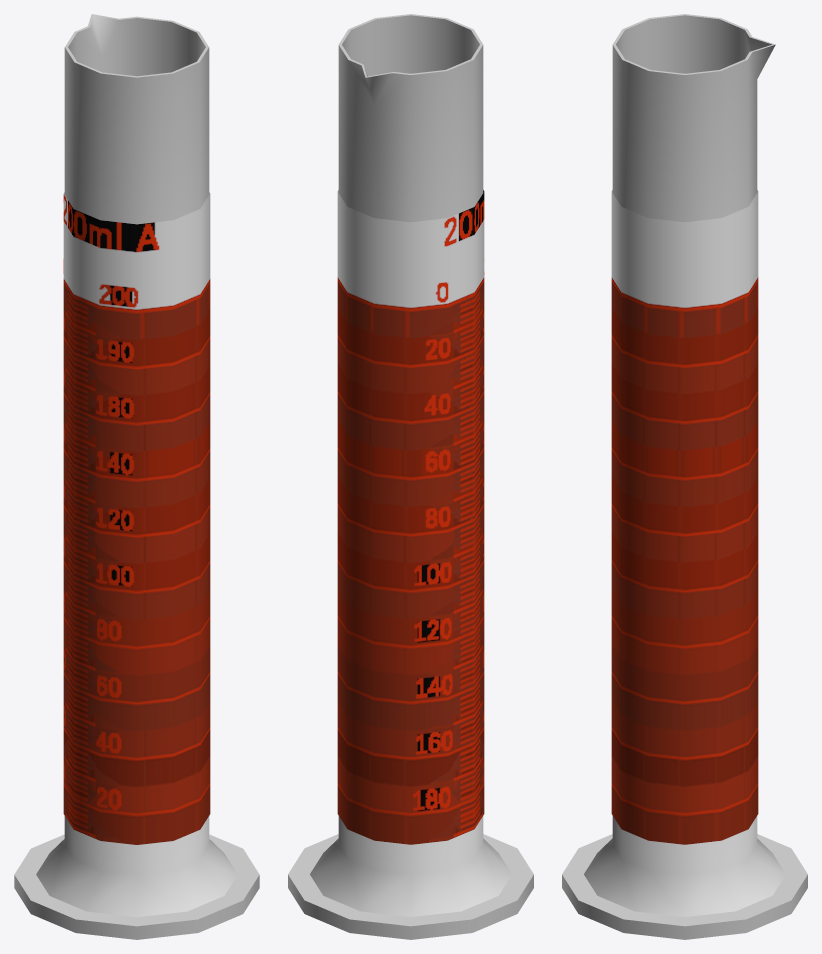
Rendered from SM_玻璃量筒.fbx.
3 views of the same model, side by side, from view 1: azimuth 30°, elevation 25°; view 2: azimuth 150°, elevation 25°; view 3: azimuth 270°, elevation 25° (orthographic).
Visible parts, largest first — view 1: SM_玻璃量筒; view 2: SM_玻璃量筒; view 3: SM_玻璃量筒.
Part boxes in pixels (<box>): SM_玻璃量筒: <box>14,14,259,939</box>; SM_玻璃量筒: <box>288,14,533,939</box>; SM_玻璃量筒: <box>562,14,807,939</box>.
Size of the model in its own units: 0.0696 by 0.0696 by 0.2634.
